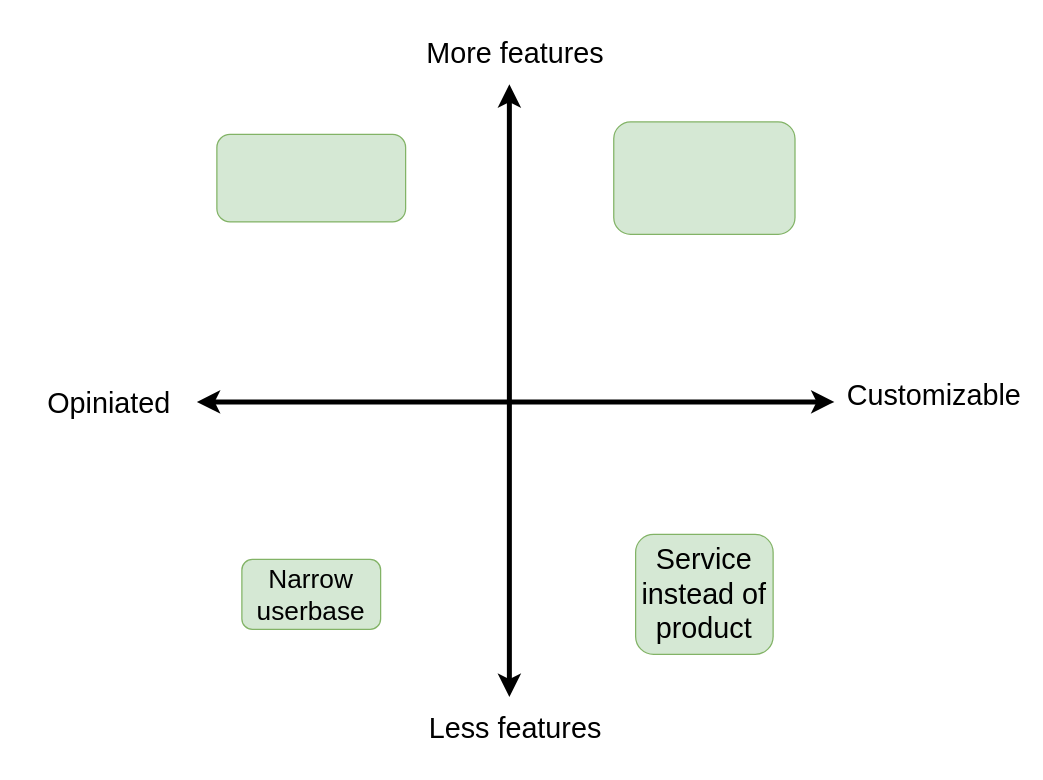
The diagram is 1043 pixels wide and 780 high, and some of its shapes have lost their labels. The shapes that lost their labels are listed below. From the top down, each one's centre as x and y in pixels, then its label:
At pixel 311 177: "Fat product, more hacks".
At pixel 703 177: "Large configuration interface".
